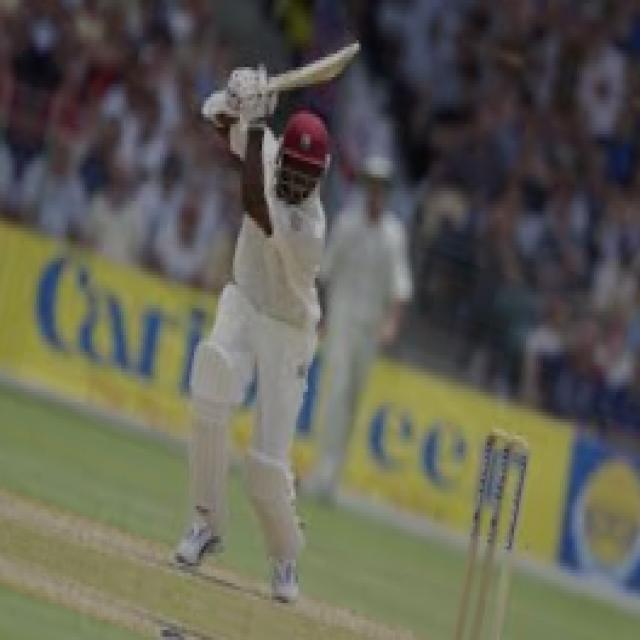bat: (271, 43, 361, 90)
